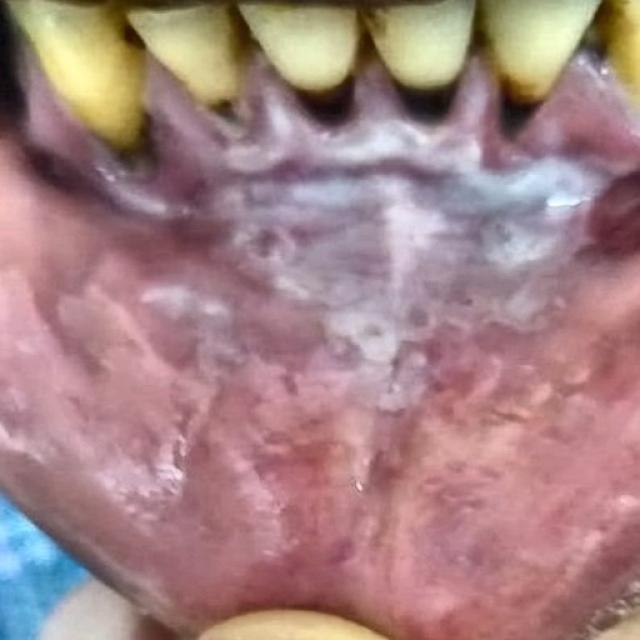cancer-detection: (82, 84, 617, 492)
processing_area: (4, 51, 639, 639)
